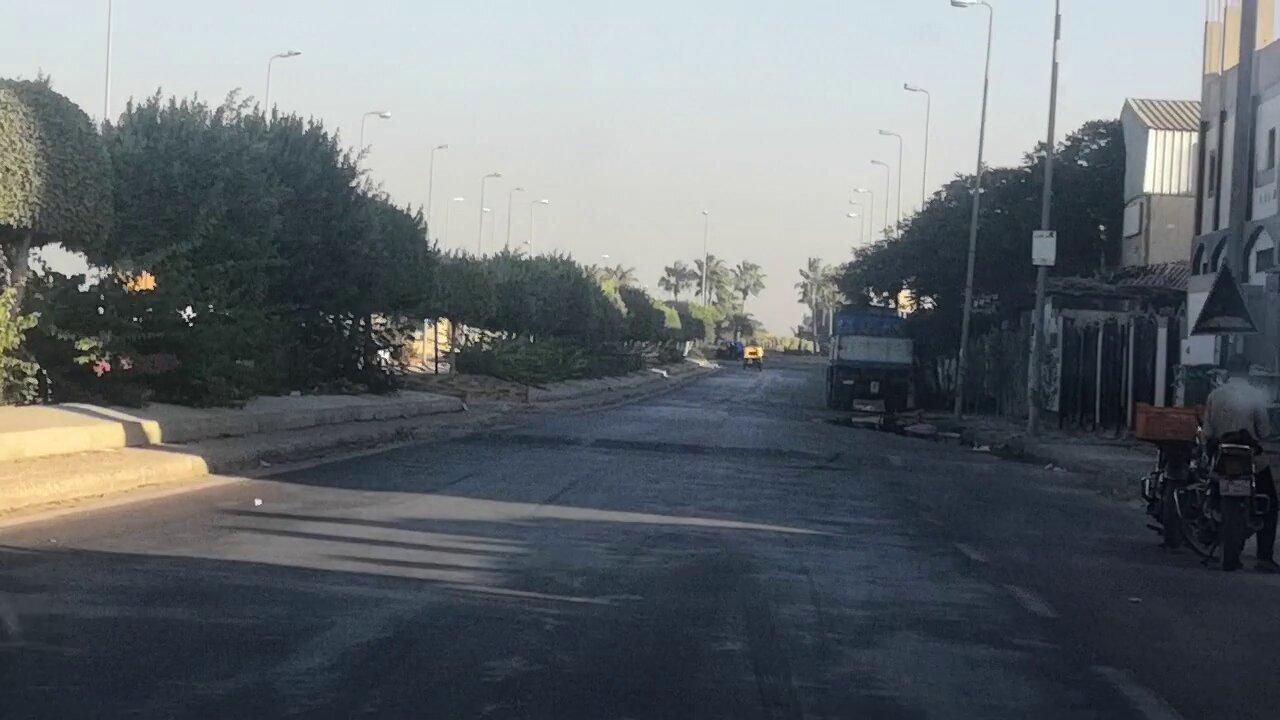Bump: (455, 428, 1023, 482)
